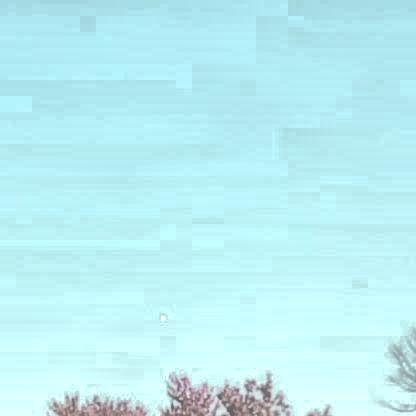golfball: (156, 310, 164, 318)
